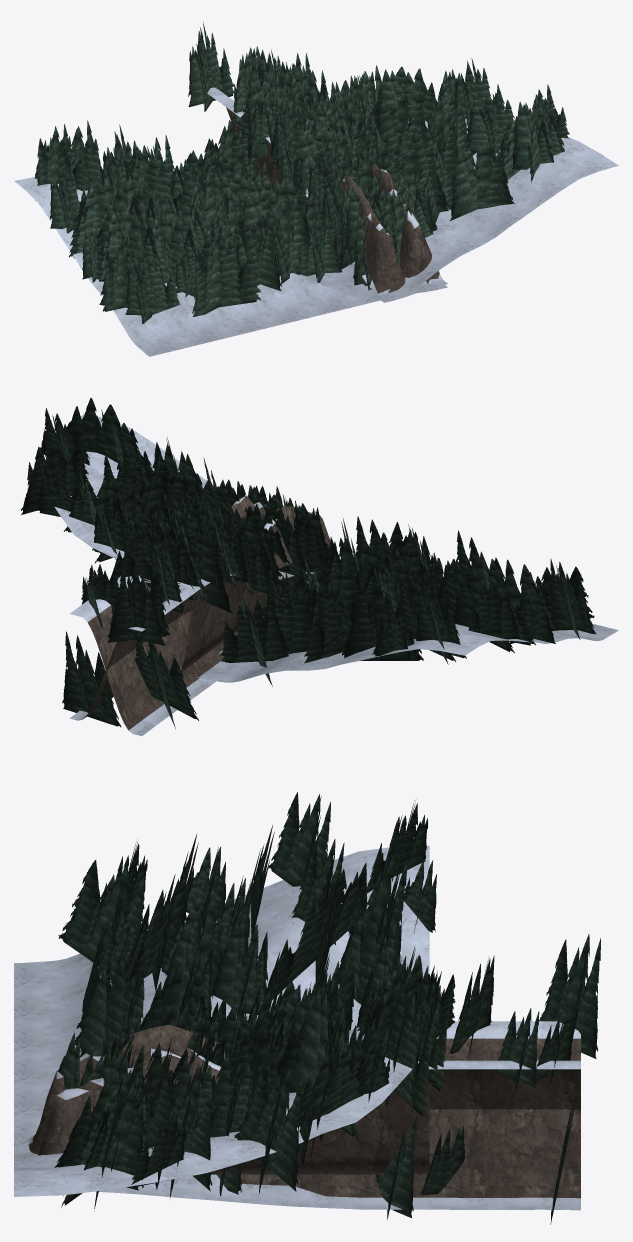
File: bk_town_winter.glb
The picture shows the model from 3 angles, top to bottom: view 1: azimuth 30°, elevation 25°; view 2: azimuth 150°, elevation 25°; view 3: azimuth 270°, elevation 25°; orthographic projection. The views are drawn at different scales.
Visible parts, largest first — view 1: trees_corner_inner, trees_corner_outer, corner_inner, corner_outer, trees_straight12_b, trees_endcap_land_to_sea, endcap_land_to_sea, trees_straight12_a, trees_straight12_c, trees_endcap_sea_to_land, endcap_sea_to_land, trees_straight6 (+2 smaller); view 2: trees_corner_inner, trees_corner_outer, trees_endcap_land_to_sea, endcap_sea_to_land, corner_inner, trees_straight12_b, trees_endcap_sea_to_land, pass12, trees_straight12_a, corner_outer, trees_straight6, trees_straight12_c (+2 smaller); view 3: trees_corner_inner, trees_corner_outer, endcap_land_to_sea, corner_inner, trees_endcap_land_to_sea, endcap_sea_to_land, corner_outer, pass12, trees_straight12_b, trees_straight12_c, trees_endcap_sea_to_land, trees_straight12_a (+2 smaller).
Part boxes in pixels (x1,y1,x2,y2): trees_corner_inner: (35,120,342,324); trees_corner_outer: (255,58,569,249); corner_inner: (14,177,383,356); corner_outer: (305,115,618,299); trees_straight12_b: (259,64,433,264); trees_endcap_land_to_sea: (188,22,424,237); endcap_land_to_sea: (207,87,447,295); trees_straight12_a: (271,53,410,270); trees_straight12_c: (260,70,401,241); trees_endcap_sea_to_land: (203,46,383,290); endcap_sea_to_land: (231,122,443,302); trees_straight6: (237,70,353,264); trees_corner_inner: (220,516,596,686); trees_corner_outer: (20,398,312,592); trees_endcap_land_to_sea: (62,515,248,727); endcap_sea_to_land: (70,495,308,735); corner_inner: (198,623,618,682); trees_straight12_b: (136,487,327,592); trees_endcap_sea_to_land: (81,508,339,728); pass12: (180,573,313,671); trees_straight12_a: (123,486,327,603); corner_outer: (54,414,312,588); trees_straight6: (168,500,325,613); trees_straight12_c: (113,490,280,600); trees_corner_inner: (58,792,436,1057); trees_corner_outer: (54,944,455,1210); endcap_land_to_sea: (28,1021,580,1210); corner_inner: (14,845,429,1138); trees_endcap_land_to_sea: (61,934,601,1224); endcap_sea_to_land: (37,1048,580,1155); corner_outer: (14,1057,418,1196); pass12: (14,1069,429,1174); trees_straight12_b: (75,965,440,1095); trees_straight12_c: (127,972,431,1118); trees_endcap_sea_to_land: (93,1003,572,1089); trees_straight12_a: (58,965,447,1092).
Bounding box in the file's own units: 90.76 × 29.65 × 64.02.
4 materials, 4 textured.
